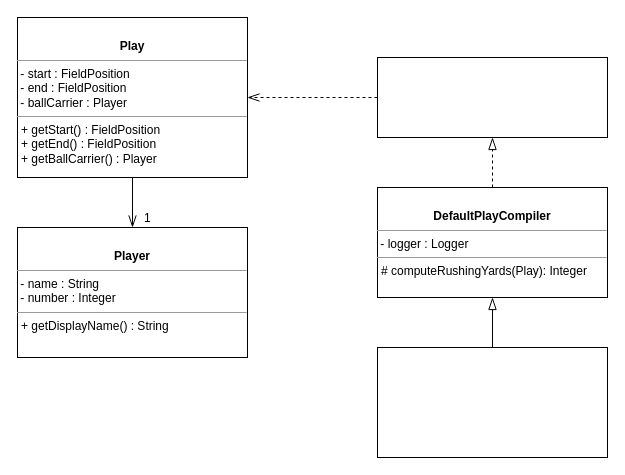
This 625x475 diagram has some shape labels left out. Each missing label, with the centre of its shape:
"<<Interface>> PlayCompiler + compile(Play): CompiledPlay" belongs at (x=492, y=97).
"CanadianPlayCompiler # computeRushingYards(Play): Integer" belongs at (x=492, y=402).
